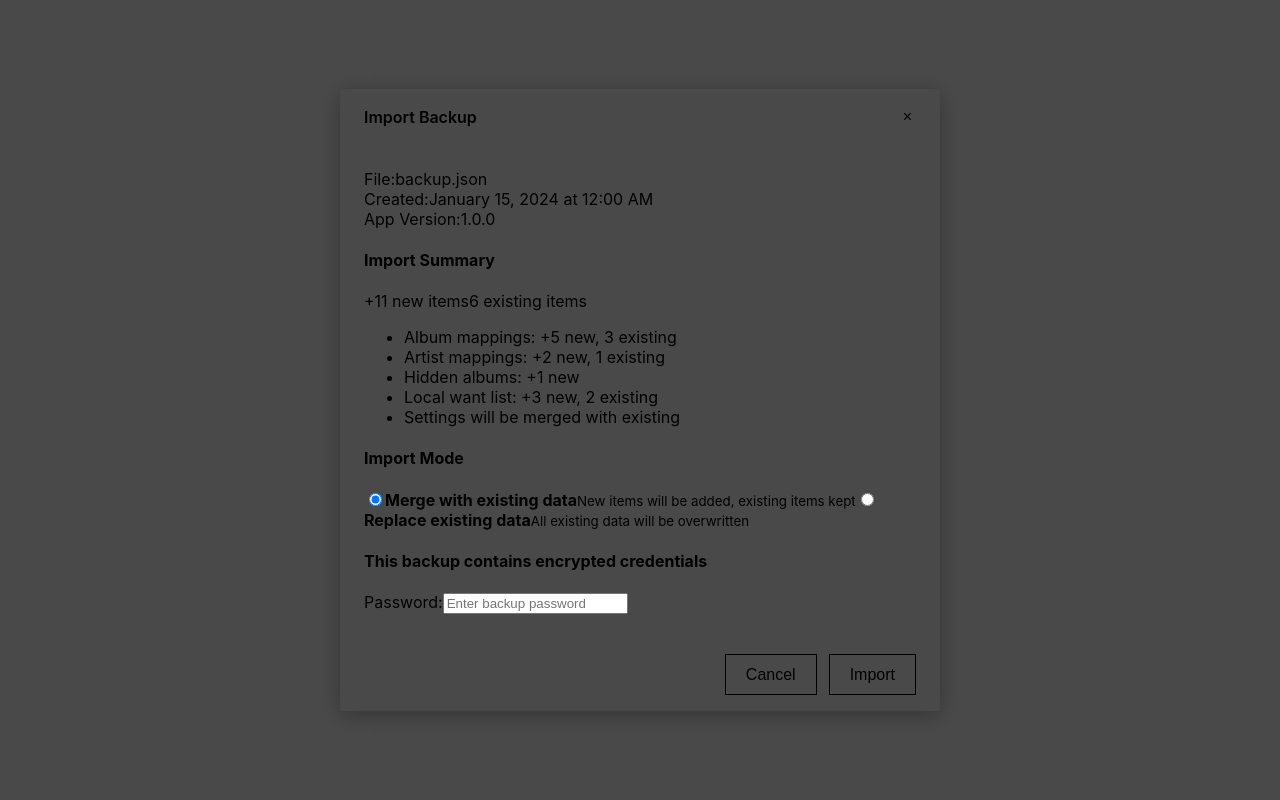
Test: BackupImportDialog › shows error when importing with credentials but no password
Click the button "Import" at (872, 675), box [829,654,916,695]
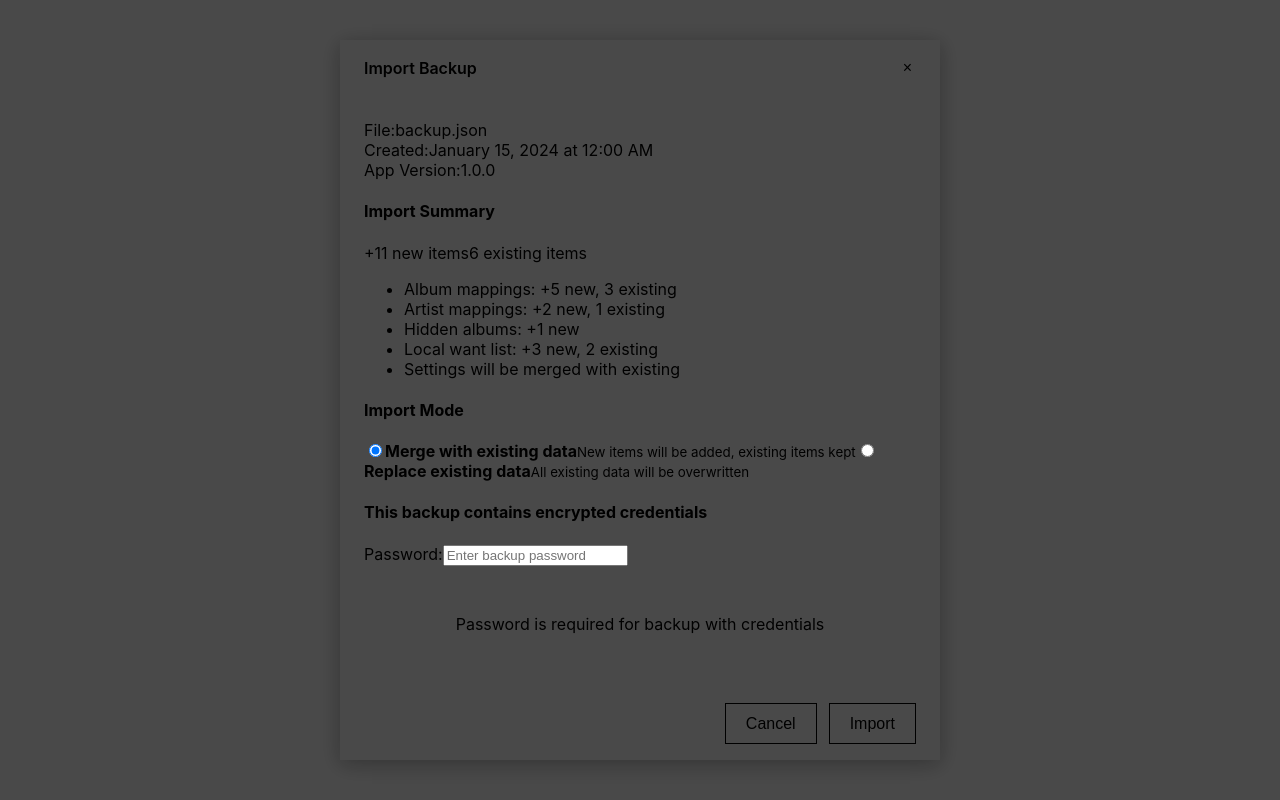
Expected: the text "Password is required for backup with credentials" is shown, [456,614,824,634]
